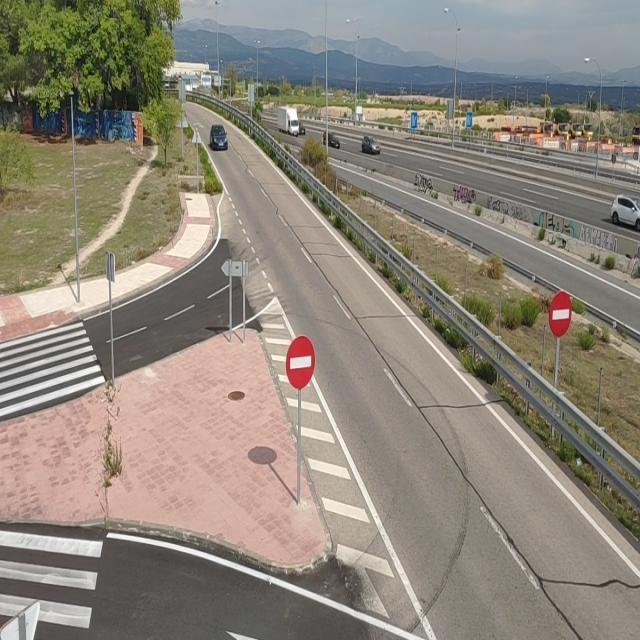Car: (612, 192, 640, 228), (208, 123, 230, 150), (360, 134, 380, 156), (322, 129, 342, 149)
Truck: (276, 105, 300, 137)
